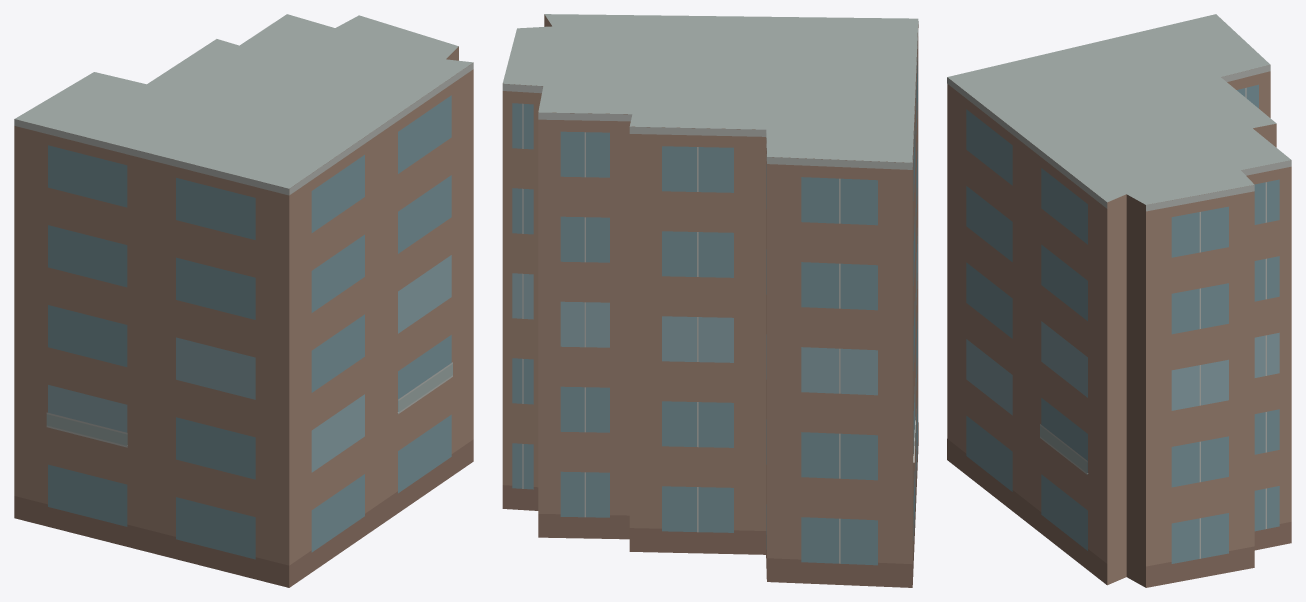
The model's file is survey-upis-32932398.glb.
3 views of the same model, side by side, from view 1: azimuth 30°, elevation 25°; view 2: azimuth 150°, elevation 25°; view 3: azimuth 270°, elevation 25° (orthographic). The views are drawn at different scales.
Parts seen in each view (by area): view 1: survey-upis-32932398.tmp; view 2: survey-upis-32932398.tmp; view 3: survey-upis-32932398.tmp.
Part boxes in pixels (left/top/right/bottom): survey-upis-32932398.tmp: left=14, top=14, right=473, bottom=587; survey-upis-32932398.tmp: left=502, top=14, right=918, bottom=587; survey-upis-32932398.tmp: left=947, top=14, right=1291, bottom=587.
Size of the model in its own units: 15.36 by 14.35 by 11.71.
